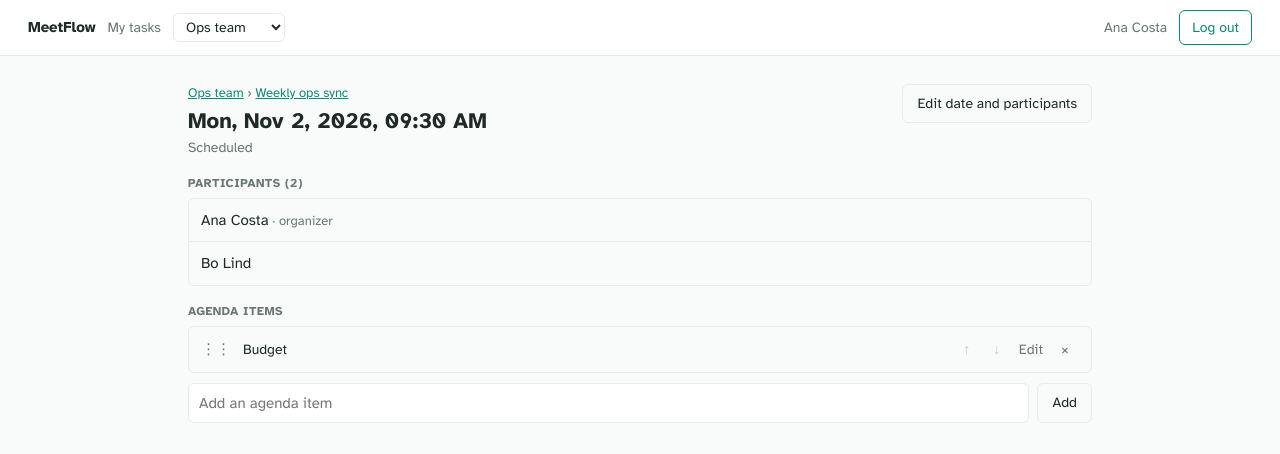
the agenda › asks before removing an item and keeps it if the organizer changes their mind
The width and height of the screenshot is (1280, 454).
What coordinates should you click on to do the following:
click the button named "Remove Budget"
I would click on:
 (1065, 349)
Its box is [1051,336,1079,362].
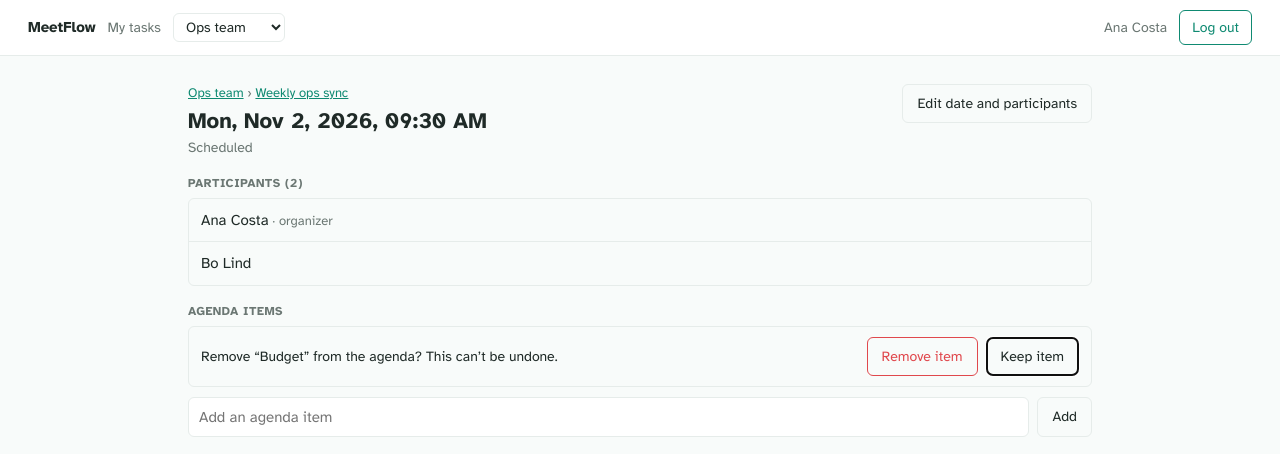
Expected: the text "Remove “Budget” from the agenda? This can’t be undone." is shown, [201,348,558,364]
What coordinates should you click on to do the following:
click the button "Keep item"
I would click on:
 (1032, 356)
Its box is [986,336,1079,376].
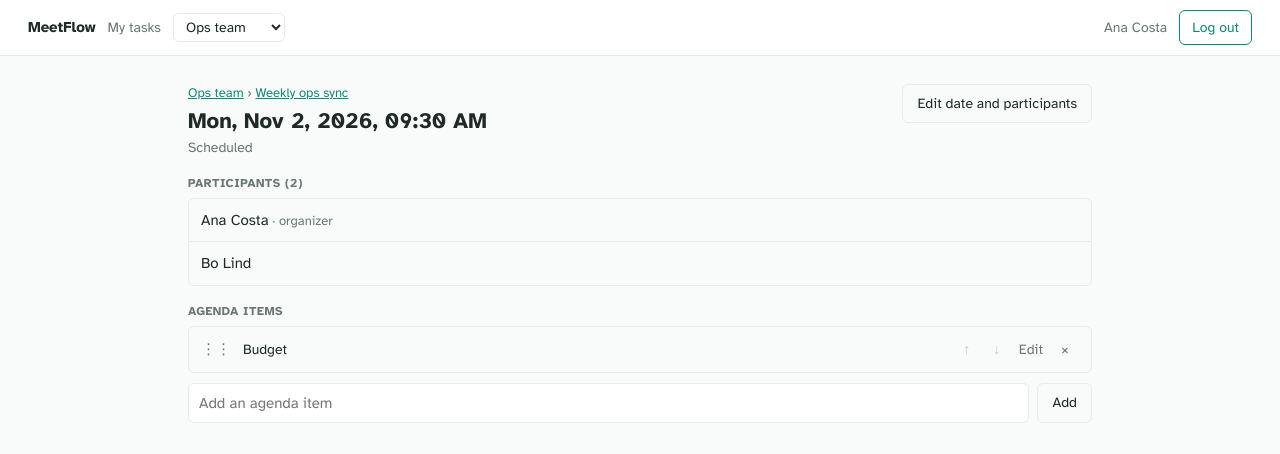
Expected: the button named "Remove Budget" is shown, [1051,336,1079,362]
Expected: the button "Remove item" is gone
